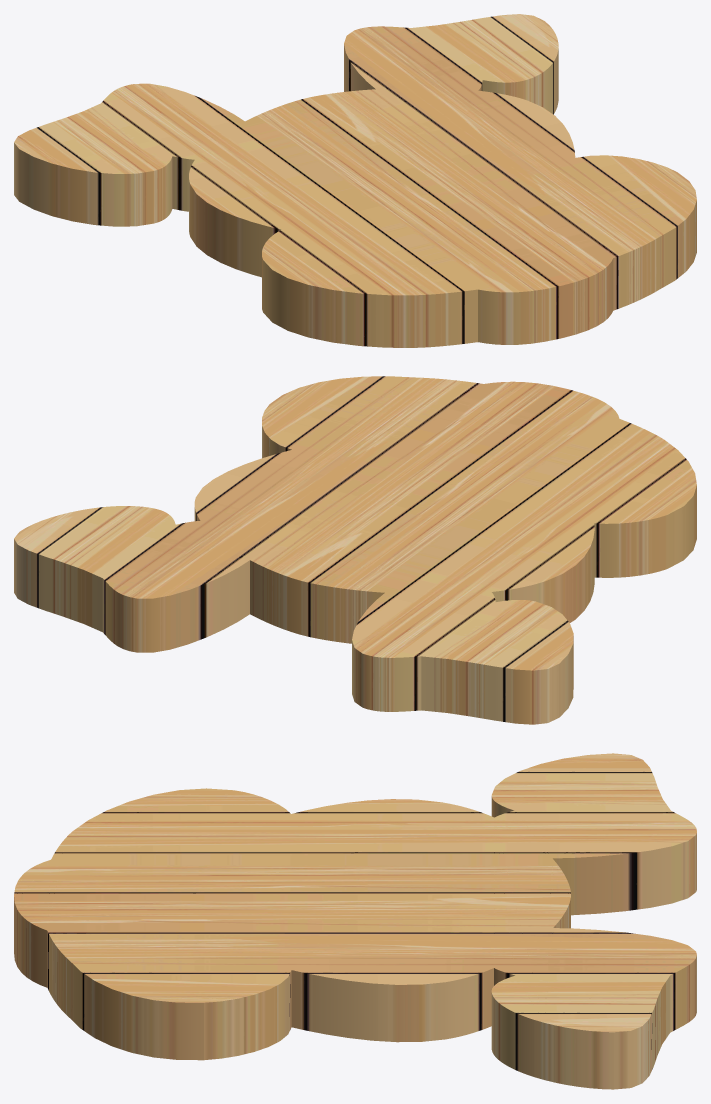
Rendered from DogShape.fbx.
3 renders of one model, top to bottom at view 1: azimuth 30°, elevation 25°; view 2: azimuth 150°, elevation 25°; view 3: azimuth 270°, elevation 25°, orthographic. The views are drawn at different scales.
Visible parts, largest first — view 1: dogShapeShape; view 2: dogShapeShape; view 3: dogShapeShape.
Boxes of the visible parts, x1,y1,x2,y2 form: dogShapeShape: (14, 14, 696, 347); dogShapeShape: (14, 376, 696, 724); dogShapeShape: (14, 753, 696, 1089).
Bounding box in the file's own units: 660 × 63.18 × 683.
1 material, 1 textured.
